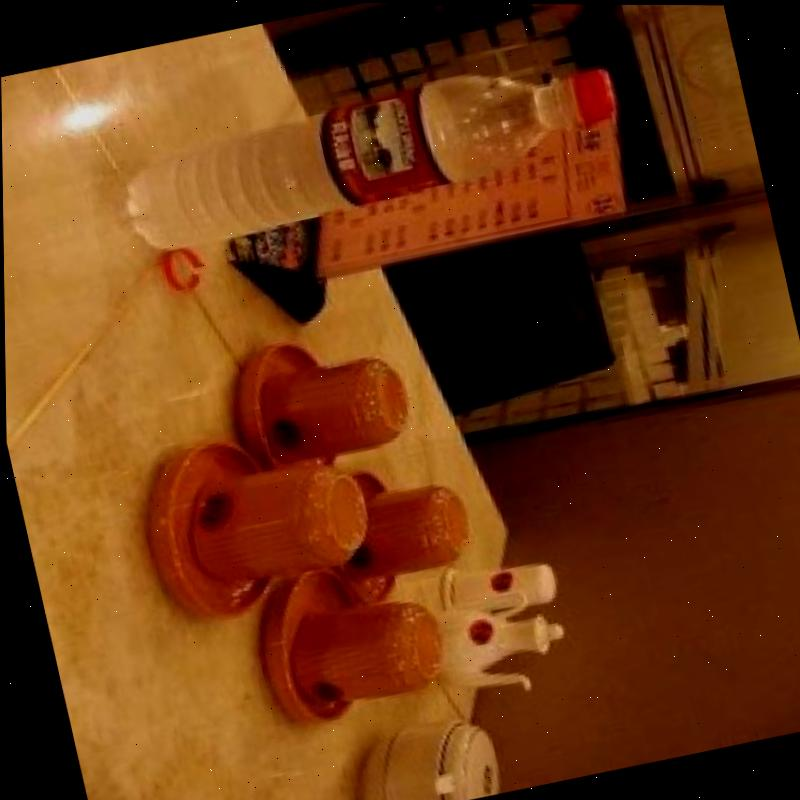botella: (112, 35, 628, 261)
